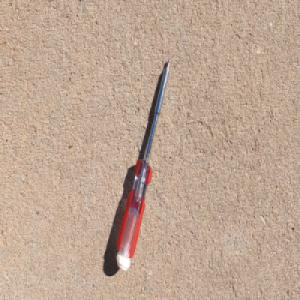Screwdriver: (116, 55, 173, 272)
